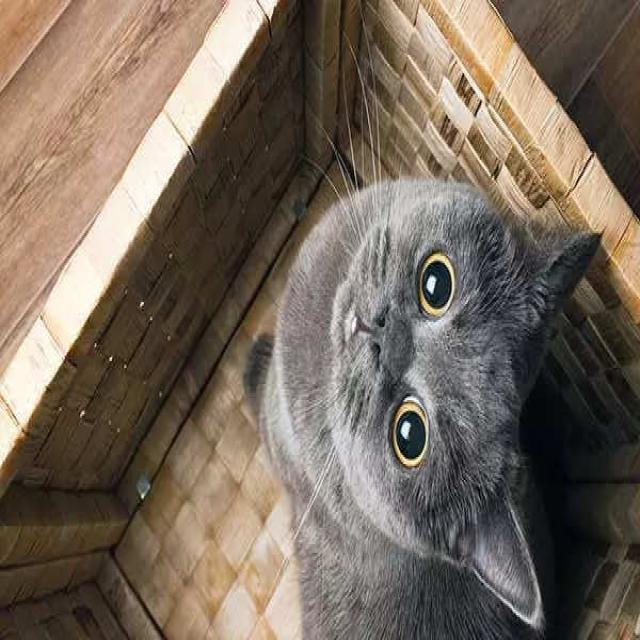cat: (240, 110, 610, 640)
